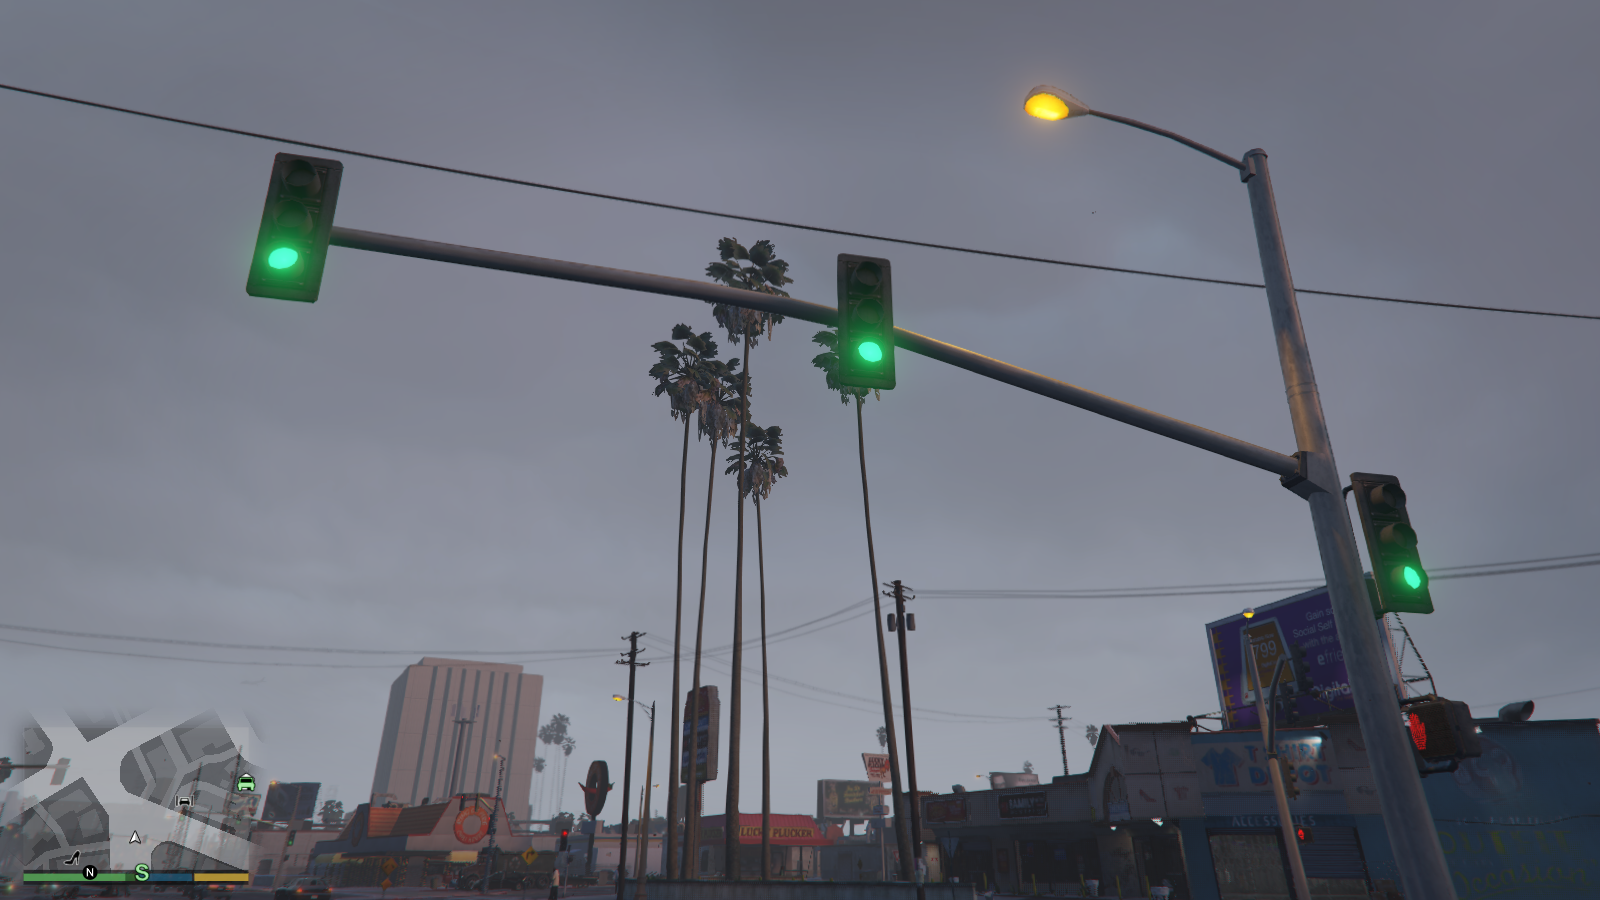green: (241, 148, 344, 304), (1347, 470, 1440, 616), (833, 255, 902, 395)
